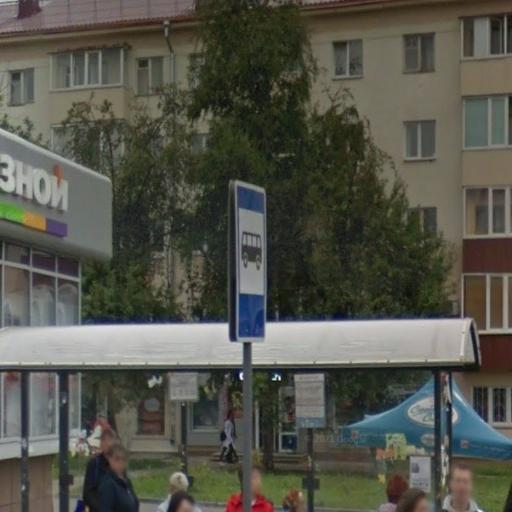traffic_sign: (234, 181, 269, 346)
